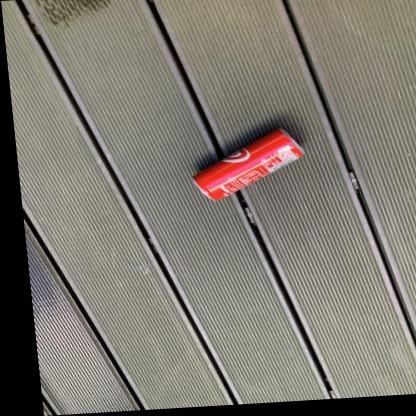trash: (194, 129, 302, 199)
